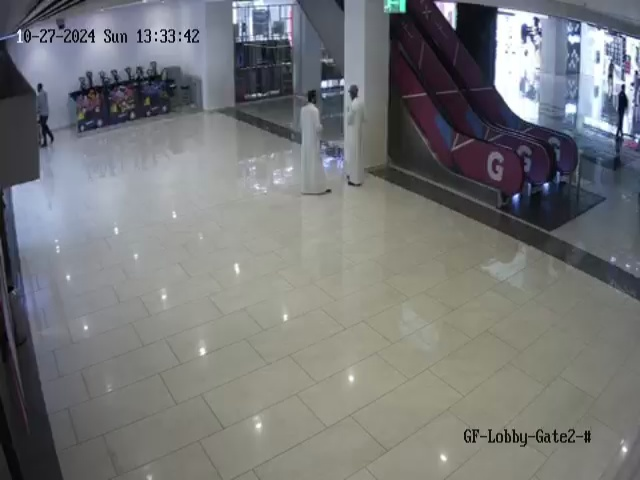employee: (616, 84, 628, 138)
male: (299, 89, 332, 196), (344, 84, 366, 187), (36, 83, 54, 147)
